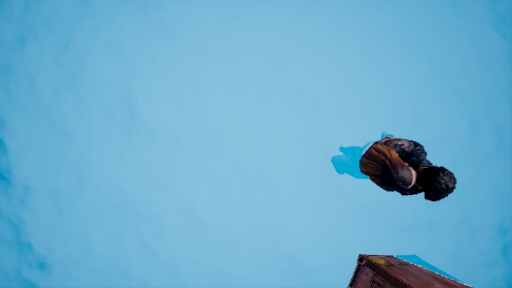person: (329, 125, 469, 208)
